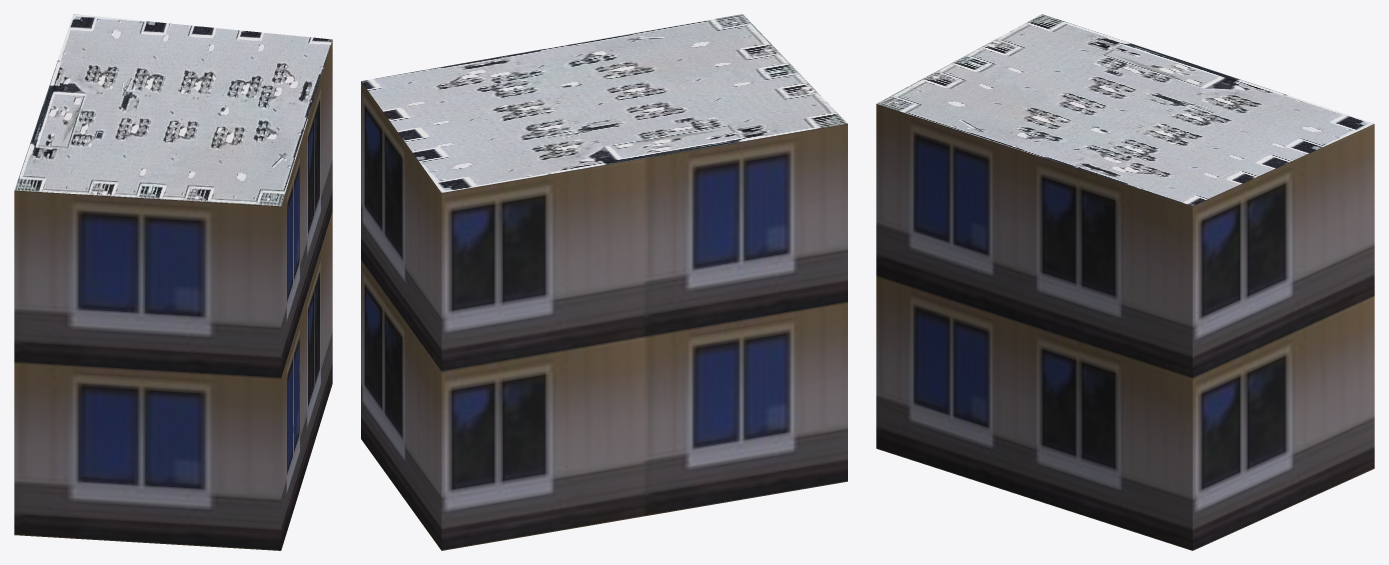
The model's file is ResTex__3402.fbx.
3 renders of one model, left to right at view 1: azimuth 30°, elevation 25°; view 2: azimuth 150°, elevation 25°; view 3: azimuth 270°, elevation 25°, orthographic. The views are drawn at different scales.
Parts seen in each view (by area): view 1: CityEngineMaterial_5_m, CityEngineMaterial_m; view 2: CityEngineMaterial_5_m, CityEngineMaterial_m; view 3: CityEngineMaterial_5_m, CityEngineMaterial_m.
Boxes of the visible parts, x1,y1,x2,y2 form: CityEngineMaterial_5_m: (14,40,332,550); CityEngineMaterial_m: (14,14,332,206); CityEngineMaterial_5_m: (361,81,847,550); CityEngineMaterial_m: (361,14,847,192); CityEngineMaterial_5_m: (876,104,1374,550); CityEngineMaterial_m: (876,14,1374,205).
Size of the model in its own units: 7.17 by 6 by 7.86.
2 materials, 2 textured.
